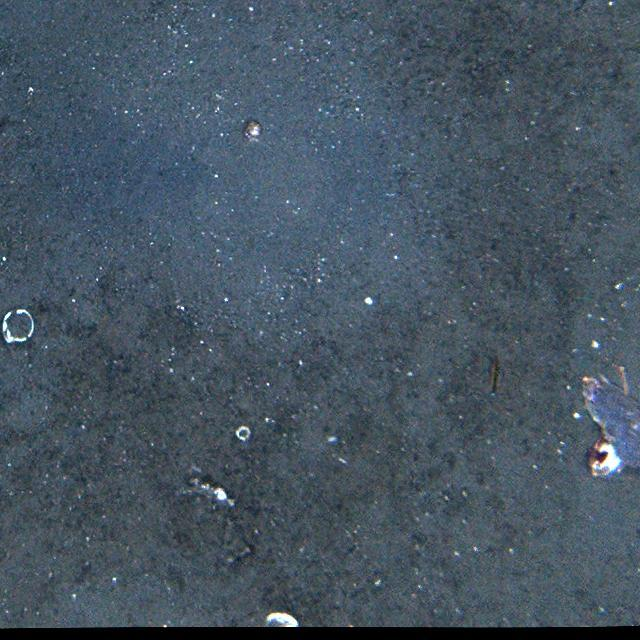crab: (585, 349, 640, 480)
